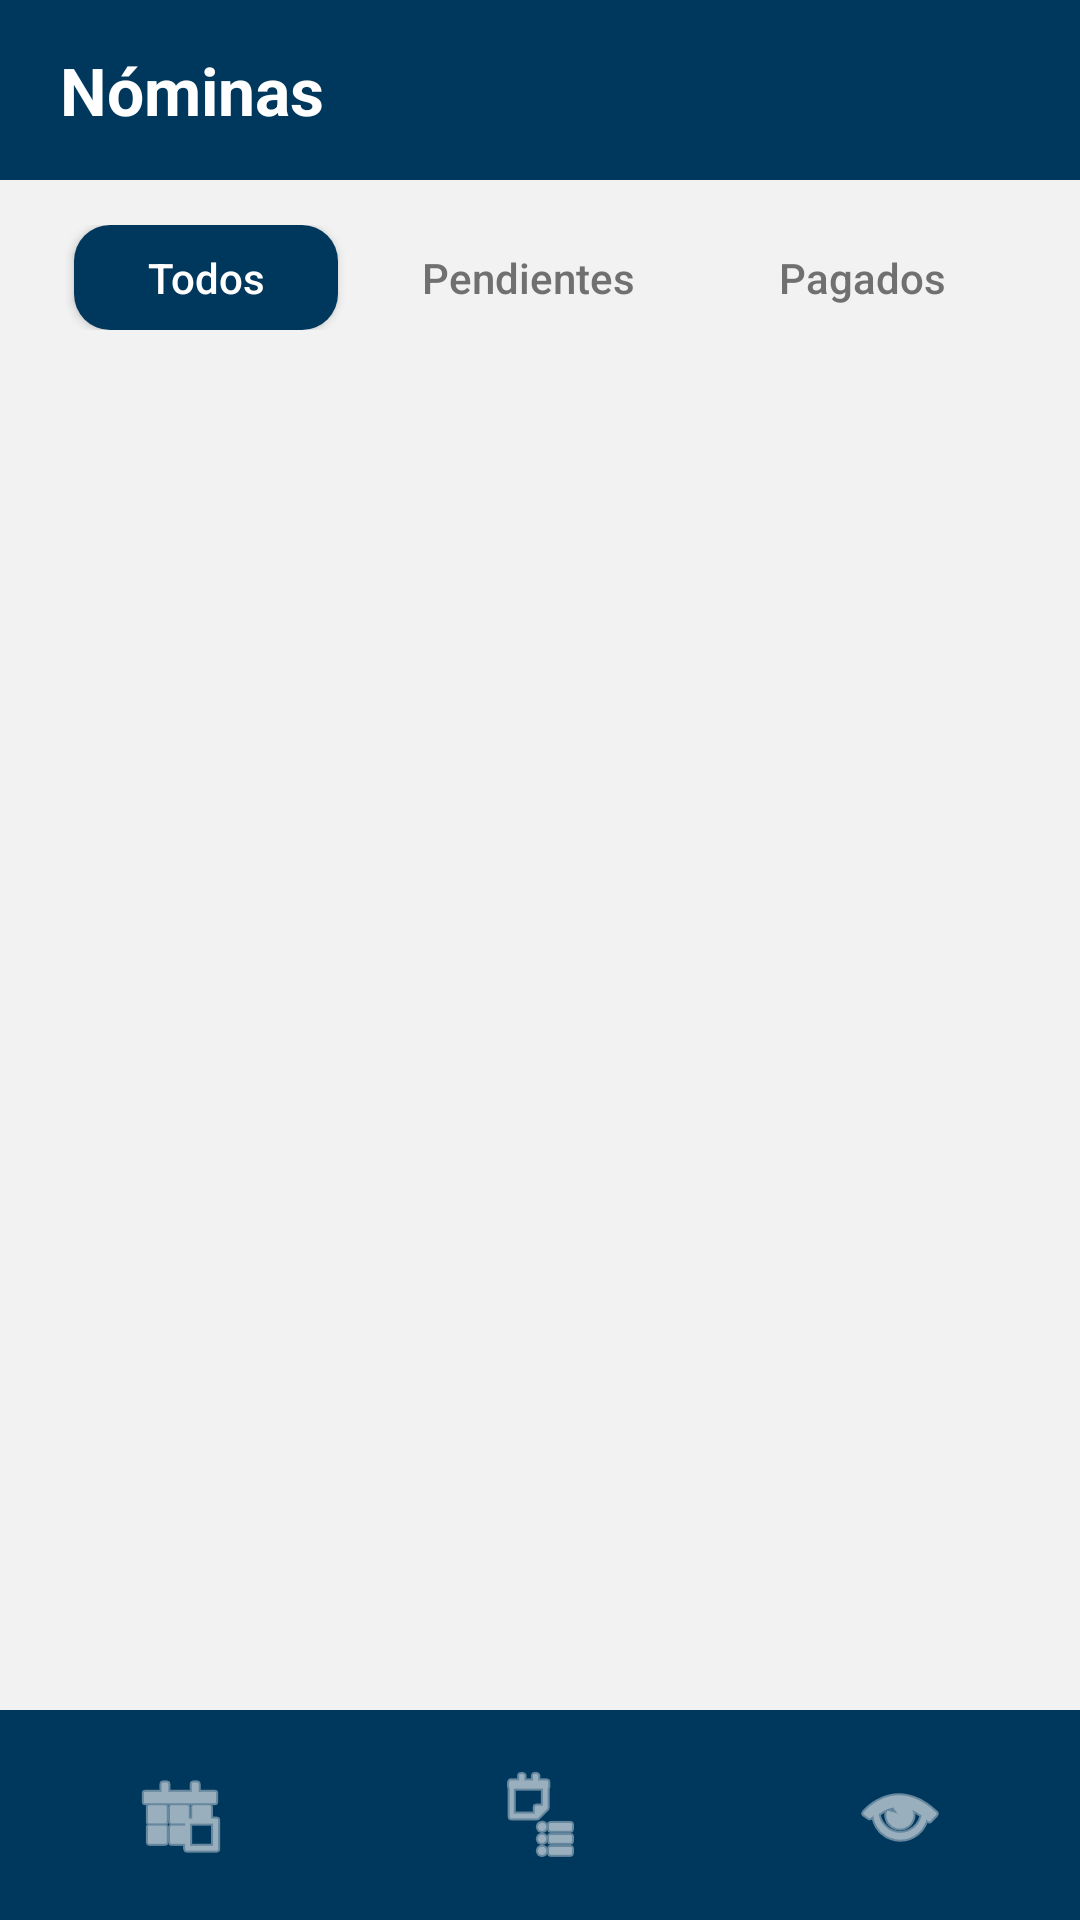

Icon click points for this 1080px x 1920px phone screenshot, format (x=x, y=y):
agenda: (x=540, y=1814)
today: (x=181, y=1816)
view: (x=900, y=1817)
